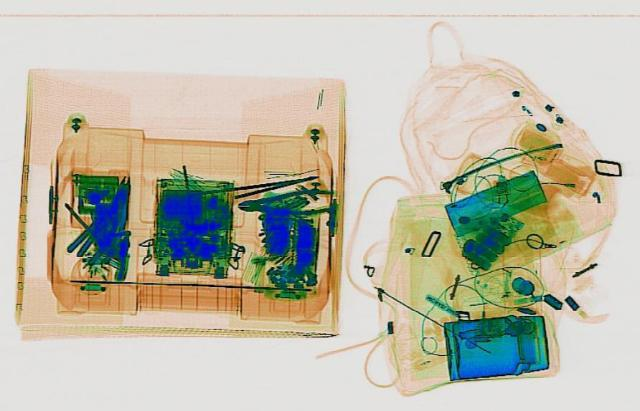Pliers: (236, 188, 334, 217)
